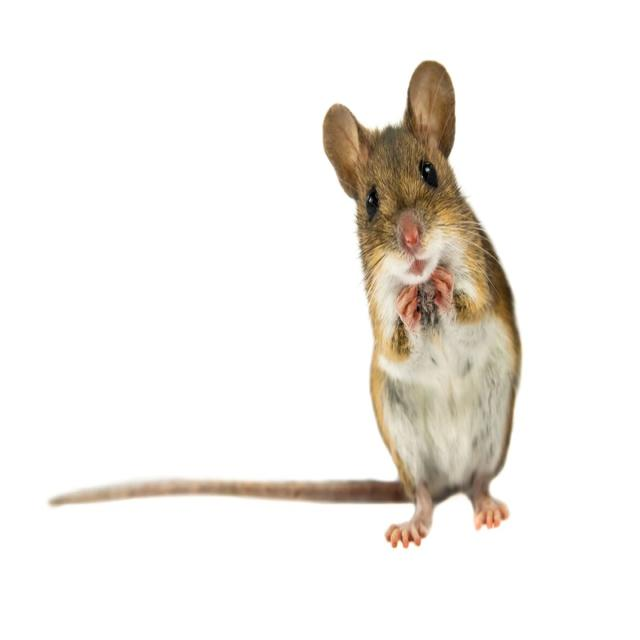rat: (315, 54, 540, 560)
